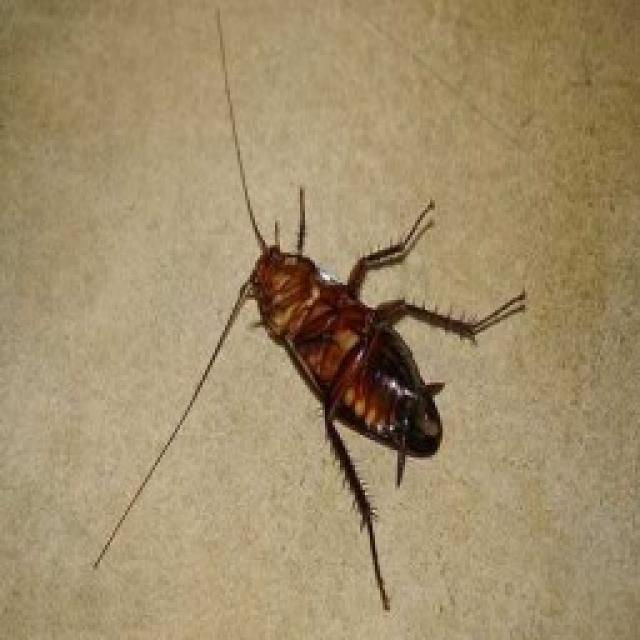cockroach: (179, 172, 537, 598)
